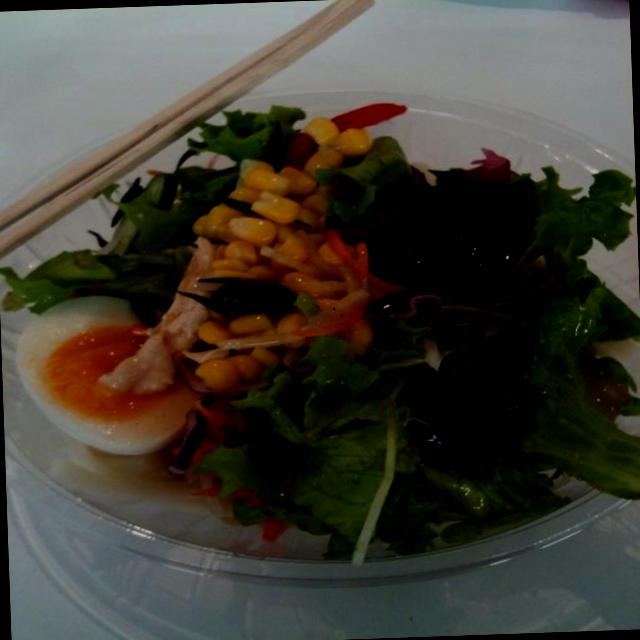Egg: (14, 287, 190, 453)
Green Salad: (148, 99, 639, 542)
